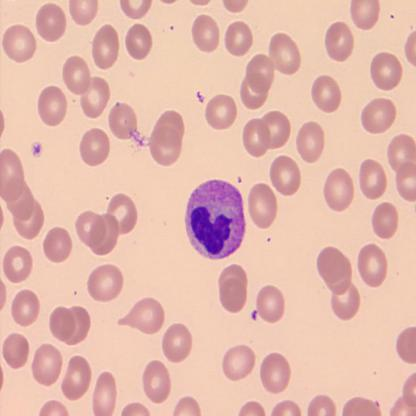Segmented neutrophil: (183, 177, 249, 261)
